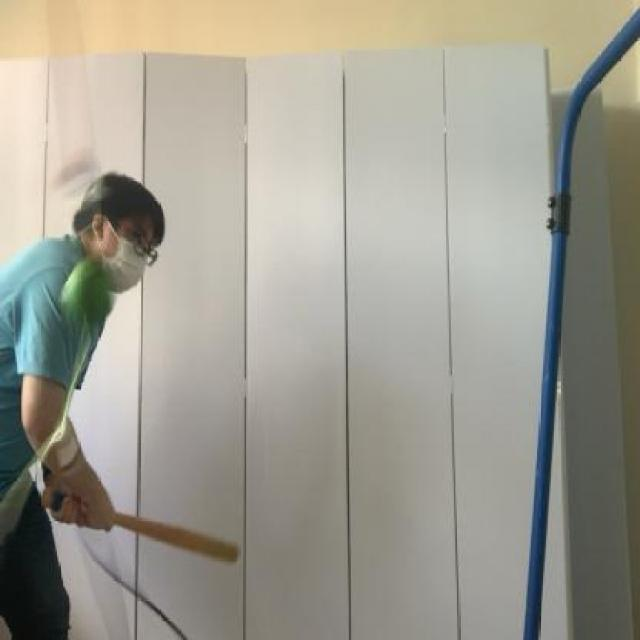baseball: (59, 252, 122, 336)
